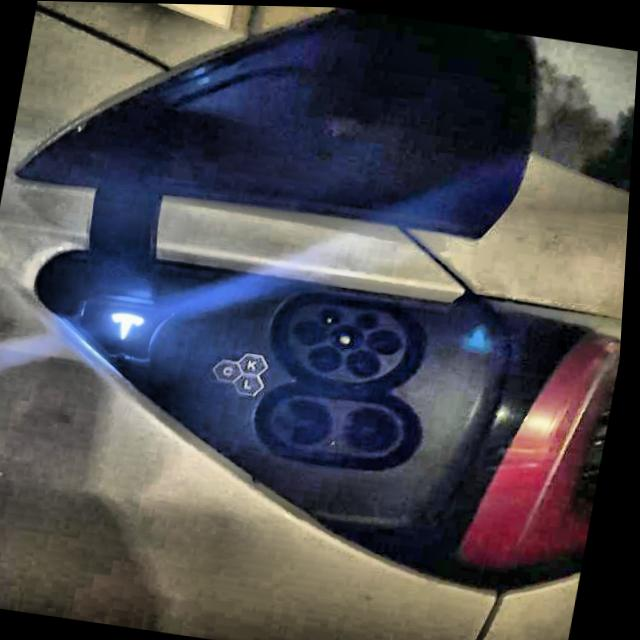inlet: (291, 300, 410, 380)
inlet-above-left: (322, 306, 346, 323)
inlet-above-right: (360, 311, 384, 326)
inlet-below-left: (310, 344, 347, 371)
inlet-below-right: (349, 349, 385, 374)
inlet-center: (333, 322, 368, 348)
inlet-center-left: (297, 320, 329, 343)
inlet-center-right: (371, 328, 406, 353)
